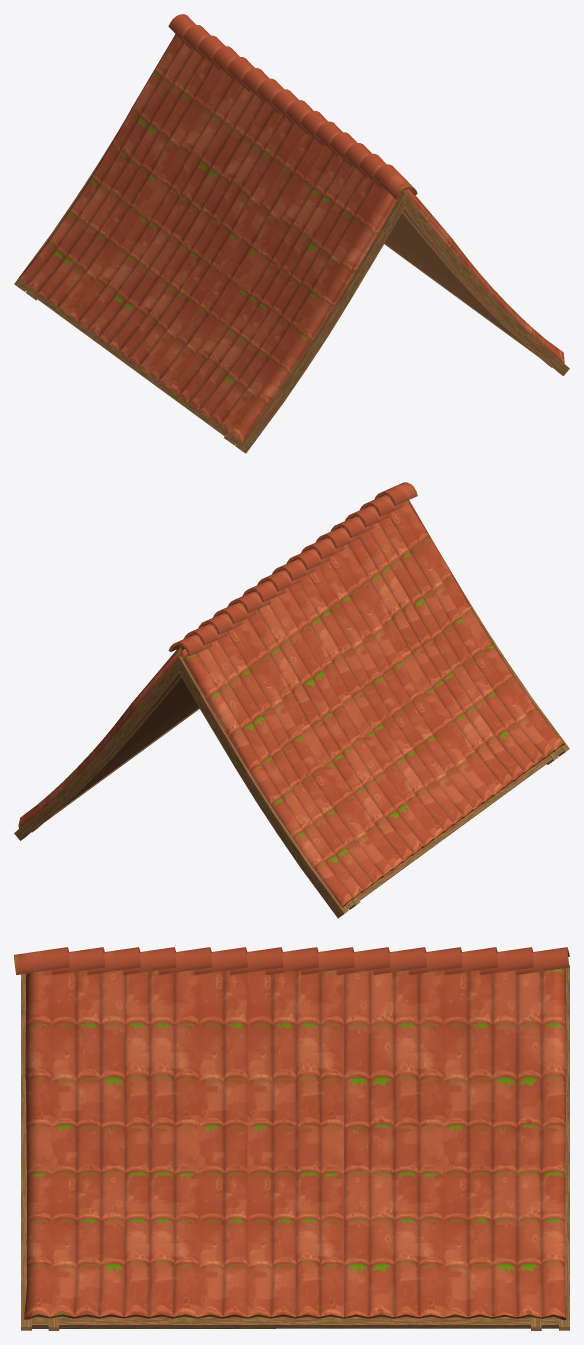
The model's file is Roof_RoundTiles_8x10.gltf.
3 views of the same model, one above another, from view 1: azimuth 30°, elevation 25°; view 2: azimuth 150°, elevation 25°; view 3: azimuth 270°, elevation 25° (orthographic). The views are drawn at different scales.
Parts seen in each view (by area): view 1: Roof_RoundTiles_8x10; view 2: Roof_RoundTiles_8x10; view 3: Roof_RoundTiles_8x10.
Part boxes in pixels (bbox=[...]): Roof_RoundTiles_8x10: bbox=[14, 14, 569, 453]; Roof_RoundTiles_8x10: bbox=[14, 482, 569, 918]; Roof_RoundTiles_8x10: bbox=[14, 947, 569, 1330].
Size of the model in its own units: 9.95 by 6.78 by 11.86.
2 materials, 2 textured.
